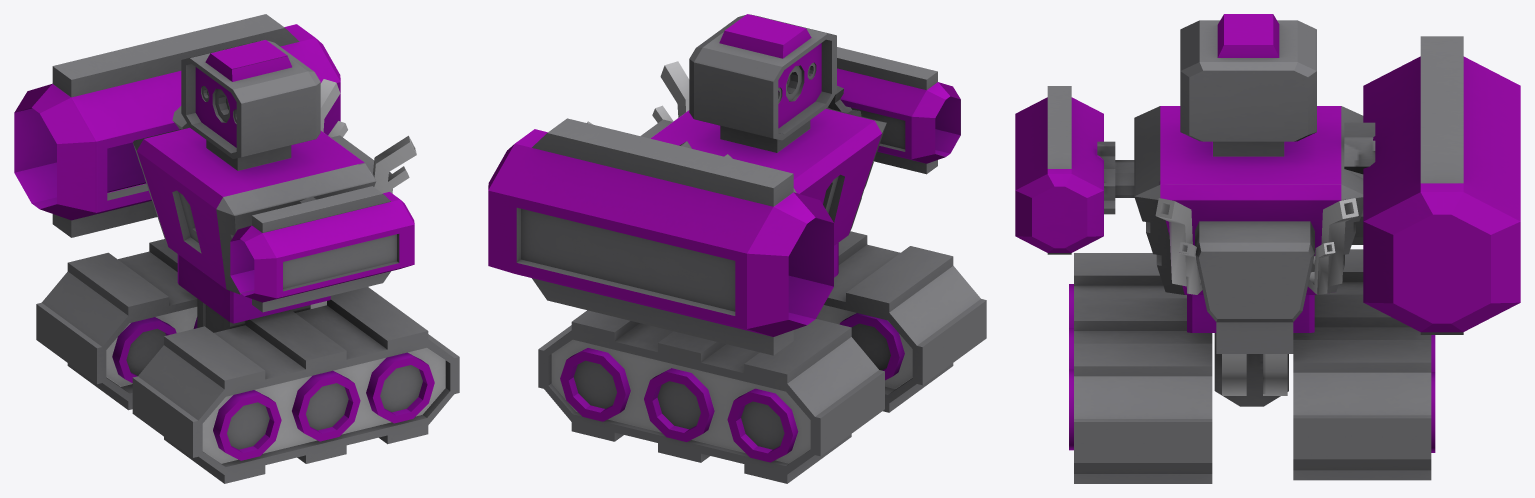
File: Enemy2_Attack5.obj
The picture shows the model from 3 angles, left to right: view 1: azimuth 30°, elevation 25°; view 2: azimuth 150°, elevation 25°; view 3: azimuth 270°, elevation 25°; orthographic projection. The views are drawn at different scales.
Visible parts, largest first — view 1: Object006, Object007, Object011, Object010; view 2: Object006, Object011, Object007, Object010; view 3: Object006, Object007, Object011, Object010, Object009, Object008.
Part boxes in pixels (bbox=[...]): Object006: bbox=[36, 186, 459, 483]; Object007: bbox=[133, 40, 376, 332]; Object011: bbox=[14, 14, 340, 237]; Object010: bbox=[310, 79, 416, 308]; Object006: bbox=[538, 47, 986, 483]; Object011: bbox=[488, 118, 833, 355]; Object007: bbox=[650, 14, 886, 318]; Object010: bbox=[587, 61, 689, 138]; Object006: bbox=[1015, 86, 1435, 483]; Object007: bbox=[1134, 14, 1363, 406]; Object011: bbox=[1363, 36, 1520, 334]; Object010: bbox=[1155, 198, 1358, 395]; Object009: bbox=[1344, 122, 1375, 244]; Object008: bbox=[1097, 141, 1134, 214].
Size of the model in its own units: 93.81 by 109 by 125.
